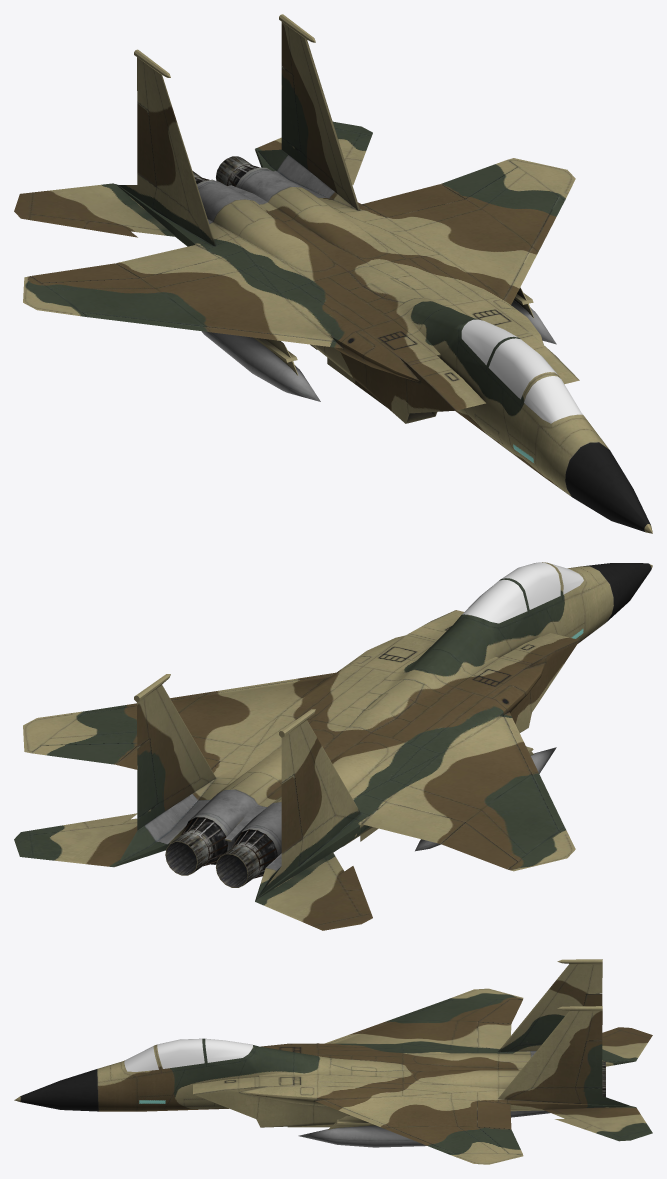
3 renders of one model, top to bottom at view 1: azimuth 30°, elevation 25°; view 2: azimuth 150°, elevation 25°; view 3: azimuth 270°, elevation 25°, orthographic. The views are drawn at different scales.
Parts seen in each view (by area): view 1: F_15_C, GLass, TAnks; view 2: F_15_C, GLass; view 3: F_15_C, GLass, TAnks.
Part boxes in pixels (x1=…): F_15_C: x1=14, y1=14, x2=652, y2=533; GLass: x1=461, y1=319, x2=582, y2=423; TAnks: x1=202, y1=300, x2=556, y2=401; F_15_C: x1=14, y1=562, x2=652, y2=930; GLass: x1=462, y1=562, x2=583, y2=623; F_15_C: x1=14, y1=959, x2=652, y2=1164; GLass: x1=124, y1=1038, x2=252, y2=1071; TAnks: x1=298, y1=1125, x2=426, y2=1147.
Bounding box in the file's own units: 7.01 × 2.61 × 10.74.
2 materials, 1 textured.
